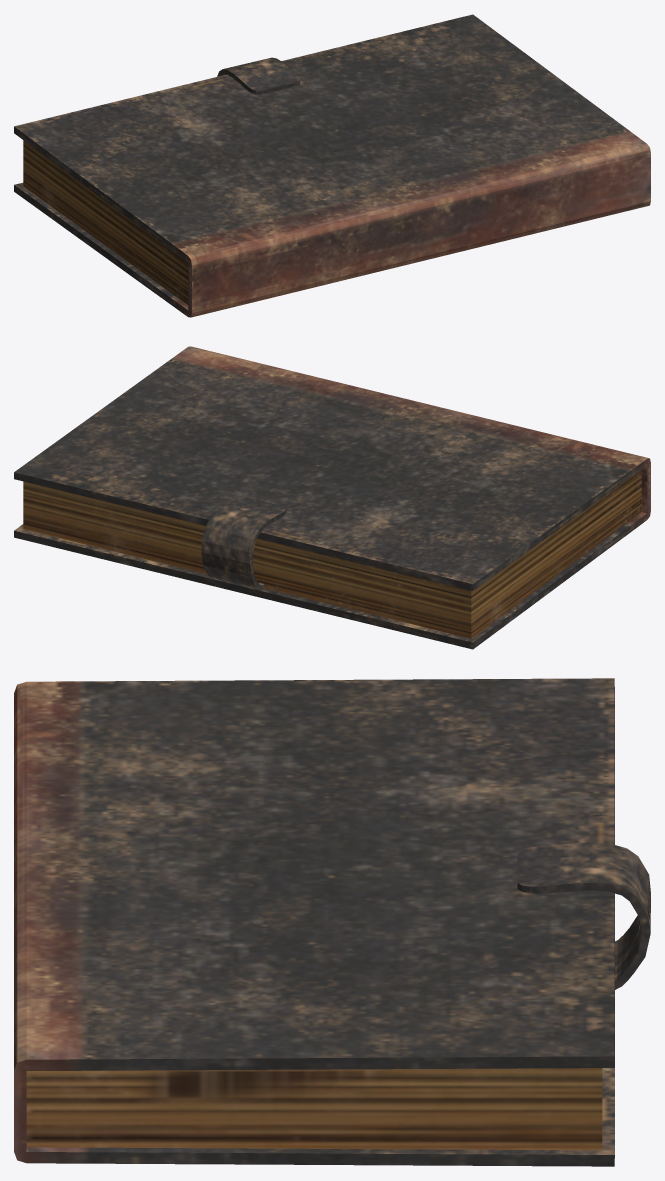
Rendered from Book02.fbx.
3 views of the same model, one above another, from view 1: azimuth 30°, elevation 25°; view 2: azimuth 150°, elevation 25°; view 3: azimuth 270°, elevation 25° (orthographic). The views are drawn at different scales.
Parts seen in each view (by area): view 1: Book02; view 2: Book02; view 3: Book02.
Boxes of the visible parts, box(x1,y1,x2,y2) form: Book02: box(14, 14, 650, 317); Book02: box(14, 346, 650, 649); Book02: box(14, 678, 650, 1166).
Size of the model in its own units: 46.46 by 6.92 by 33.08.
